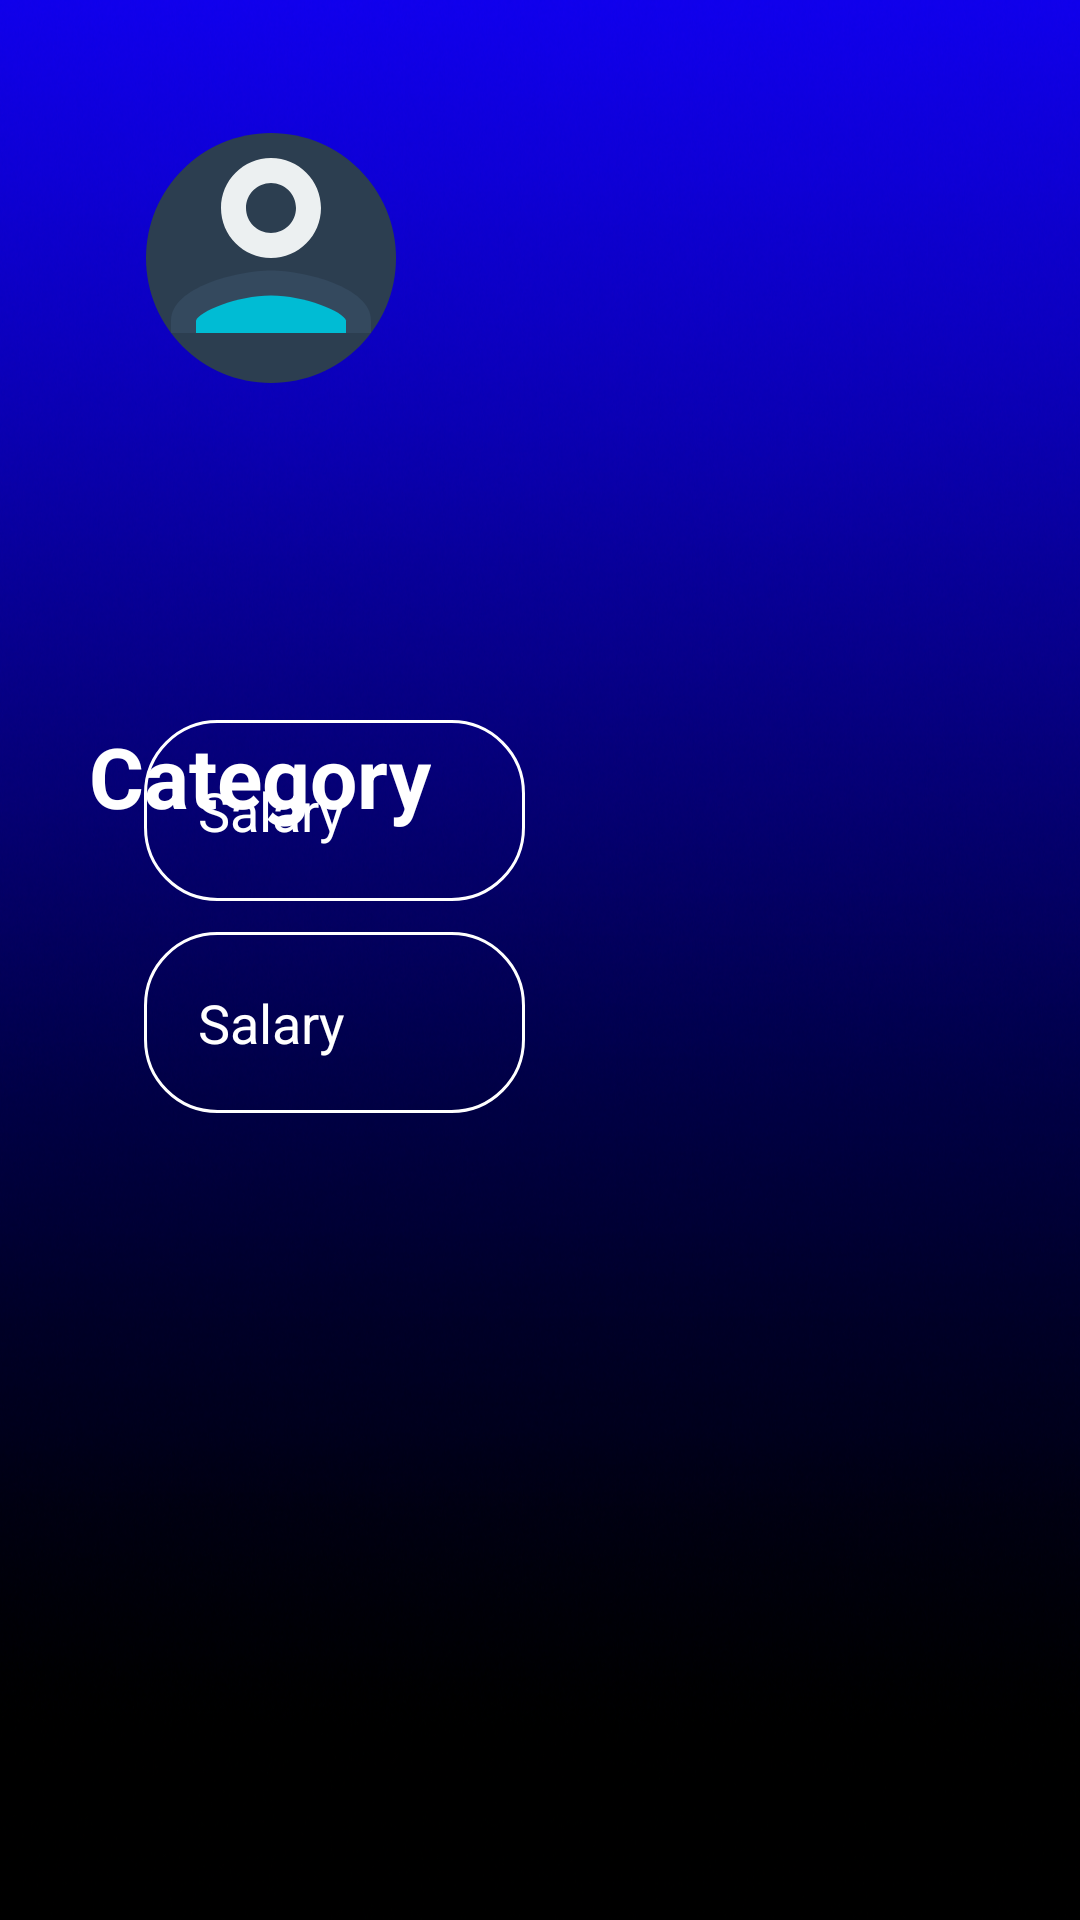

Screen size 1080 x 1920. Icon name, then its center in pixels as (x,y):
profile: (271,258)
